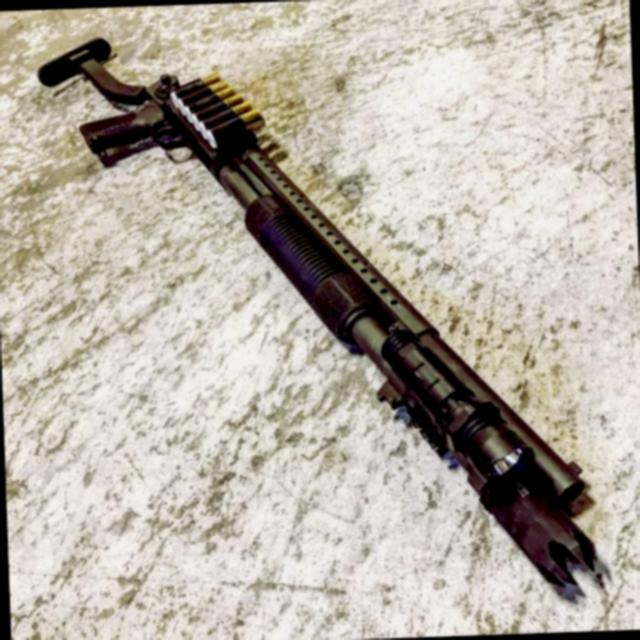shotgun: (40, 9, 622, 627)
